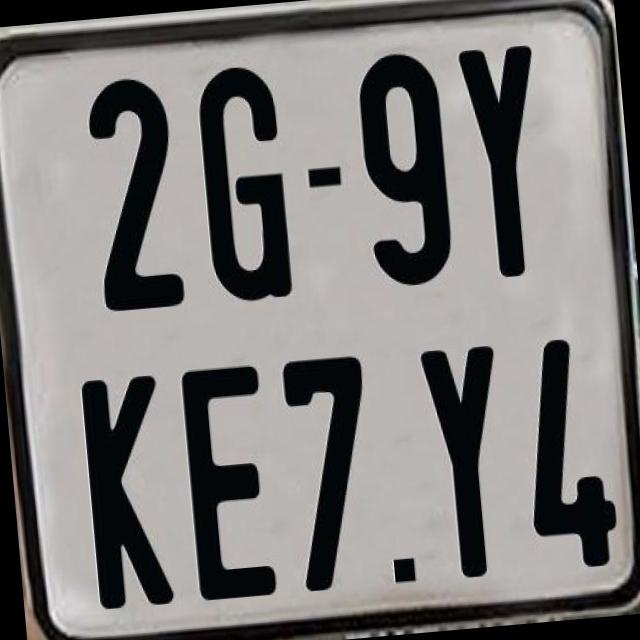2: (84, 73, 188, 318)
4: (514, 332, 626, 576)
7: (280, 353, 382, 593)
9: (350, 48, 454, 296)
E: (178, 360, 276, 598)
G: (190, 61, 292, 302)
K: (78, 371, 180, 607)
Y: (414, 342, 517, 586), (453, 43, 552, 280)
